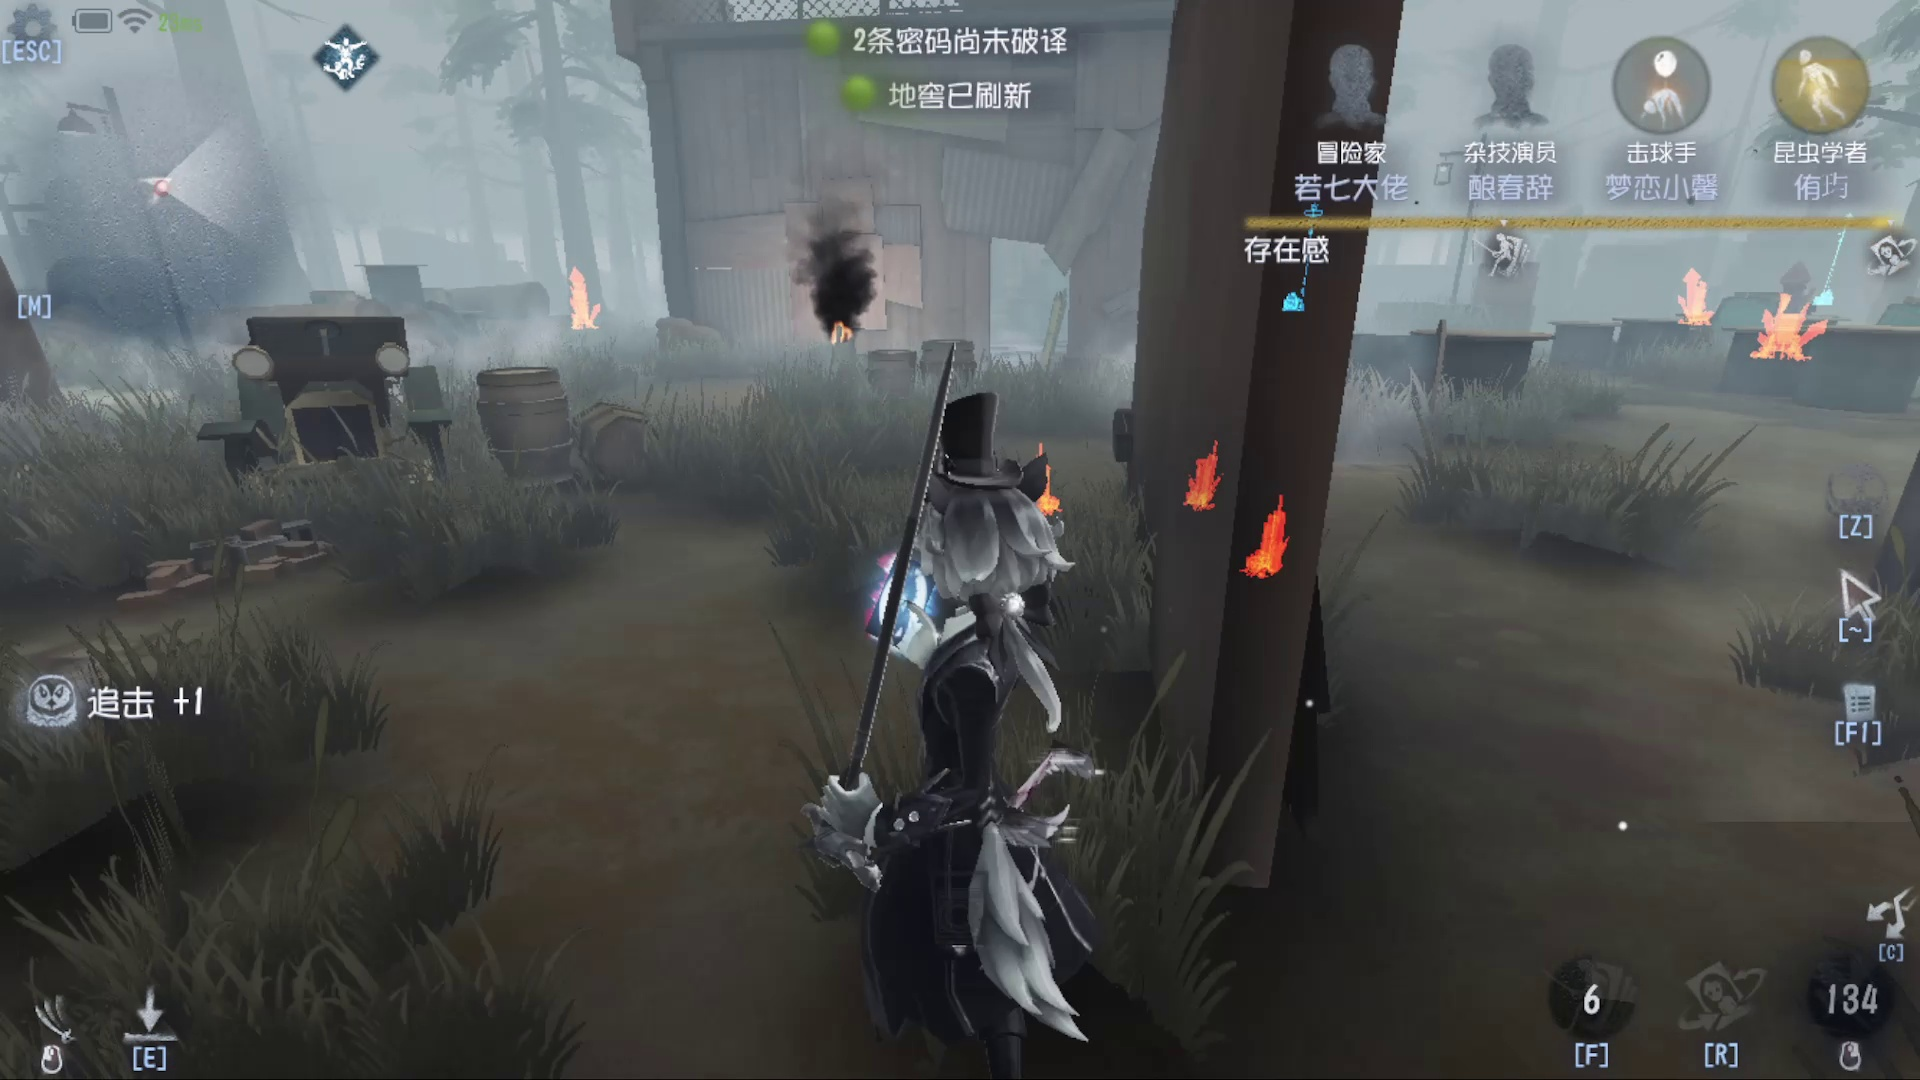木板: (1680, 273, 1803, 371), (1019, 287, 1077, 372)
狂欢之椅: (554, 260, 608, 340)
